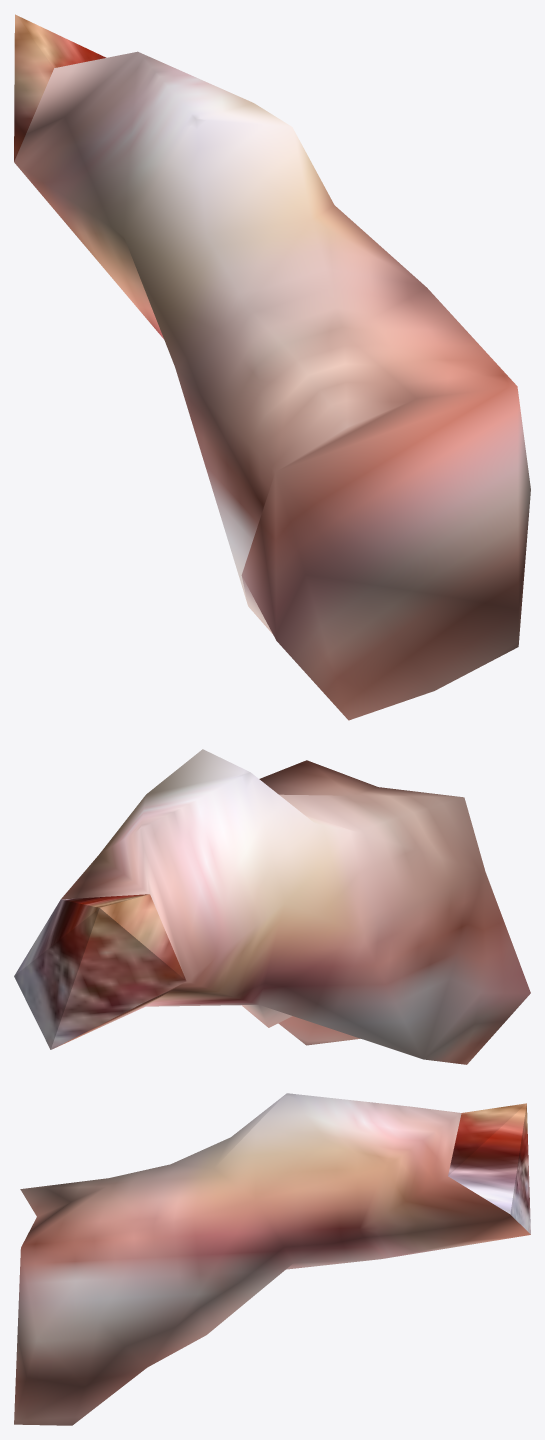
File: shank.glb
3 views of the same model, one above another, from view 1: azimuth 30°, elevation 25°; view 2: azimuth 150°, elevation 25°; view 3: azimuth 270°, elevation 25° (orthographic). The views are drawn at different scales.
Visible parts, largest first — view 1: sheep; view 2: sheep; view 3: sheep.
Boxes of the visible parts, x1,y1,x2,y2 form: sheep: (14,14,530,720); sheep: (14,749,530,1064); sheep: (14,1093,530,1425).
Size of the model in its own units: 2.71 by 4.35 by 6.52.
Materials: 1 (1 with a texture image).
